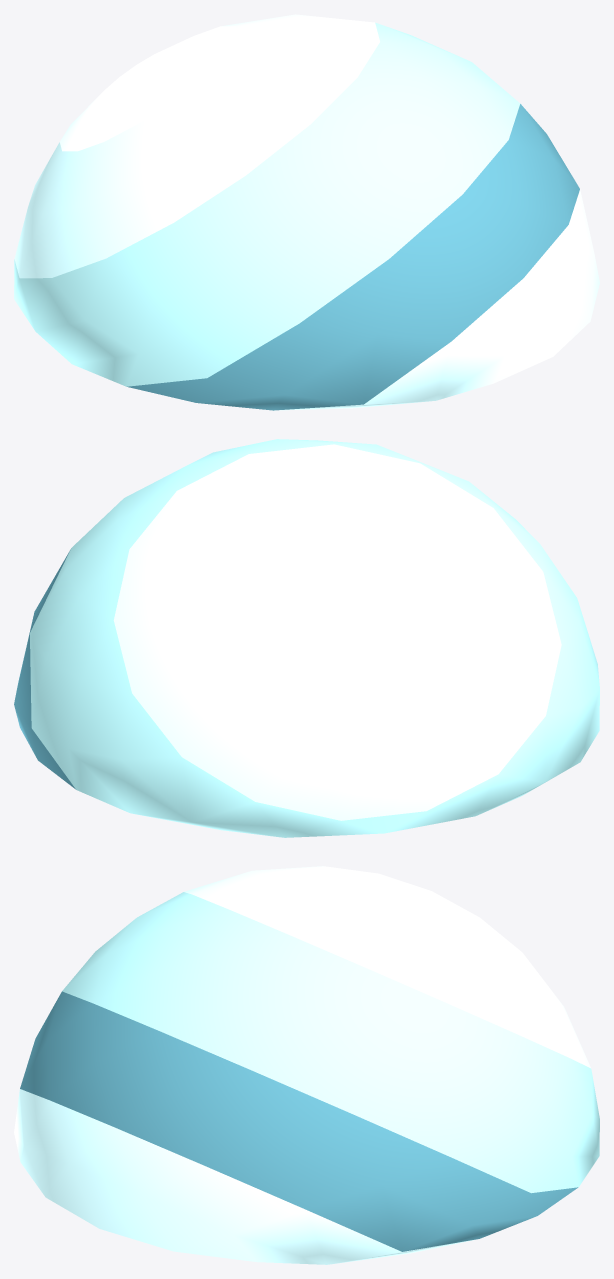
File: shot_protron.glb
3 views of the same model, one above another, from view 1: azimuth 30°, elevation 25°; view 2: azimuth 150°, elevation 25°; view 3: azimuth 270°, elevation 25° (orthographic).
Visible parts, largest first — view 1: shot_protron_pearl0; view 2: shot_protron_pearl0; view 3: shot_protron_pearl0.
Boxes of the visible parts, x1,y1,x2,y2 form: shot_protron_pearl0: (14, 14, 599, 410); shot_protron_pearl0: (14, 439, 599, 837); shot_protron_pearl0: (14, 866, 599, 1264).
Bounding box in the file's own units: 6.96 × 3.22 × 6.96.
